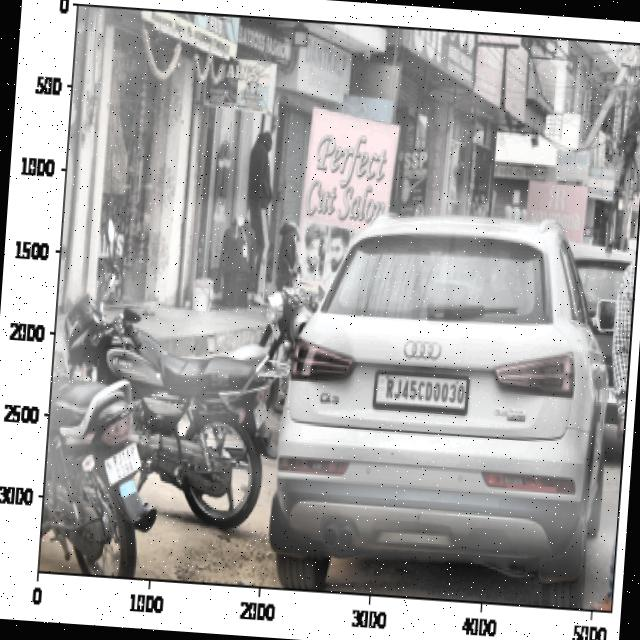license_plate: (380, 368, 469, 414)
